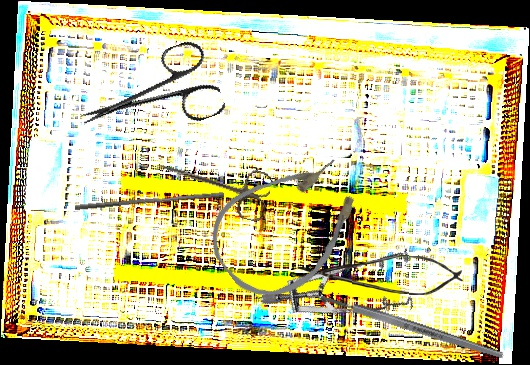Cannula: (193, 134, 384, 318)
Iris Scissors: (69, 36, 228, 159), (153, 144, 275, 224)
Micro Scissor: (294, 253, 467, 296)
Pusher: (74, 186, 225, 217)
Scalpel Handle: (318, 291, 505, 362)
Speculum: (259, 201, 434, 362)
